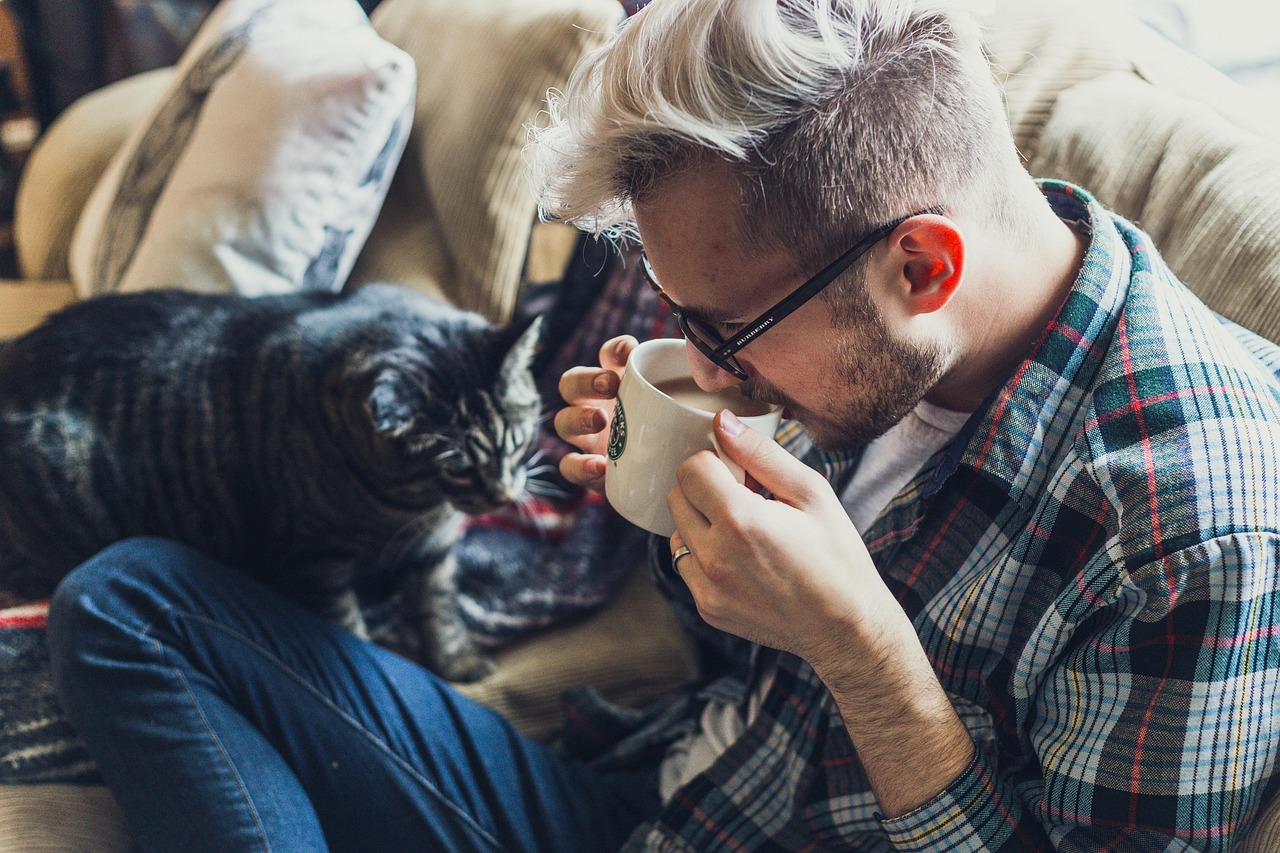mug: (541, 295, 832, 626)
